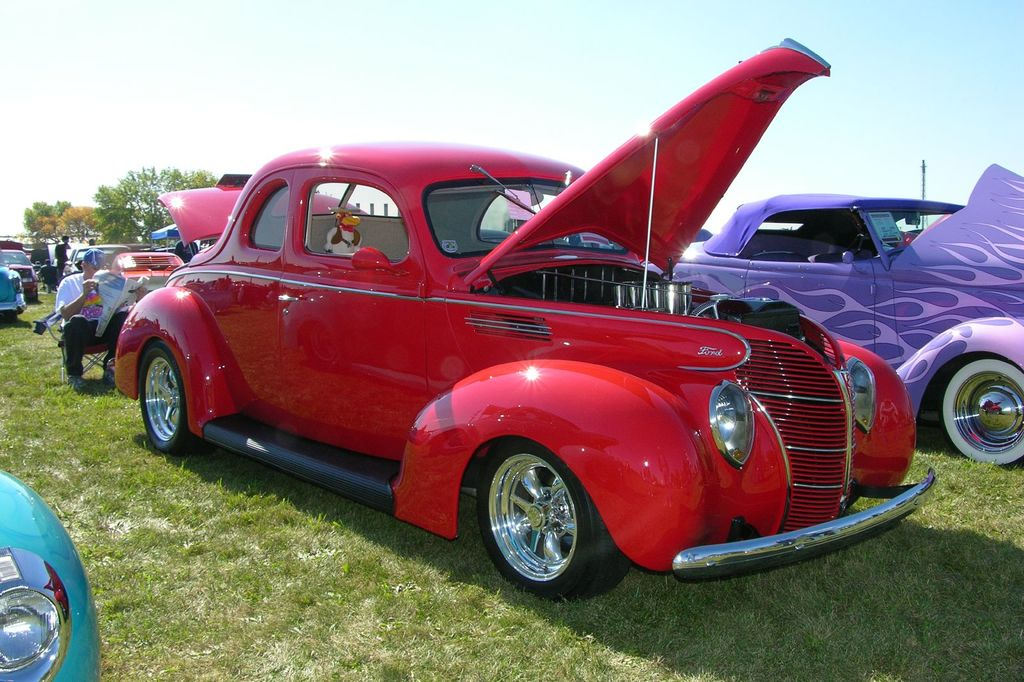Car: (0, 36, 1023, 681)
